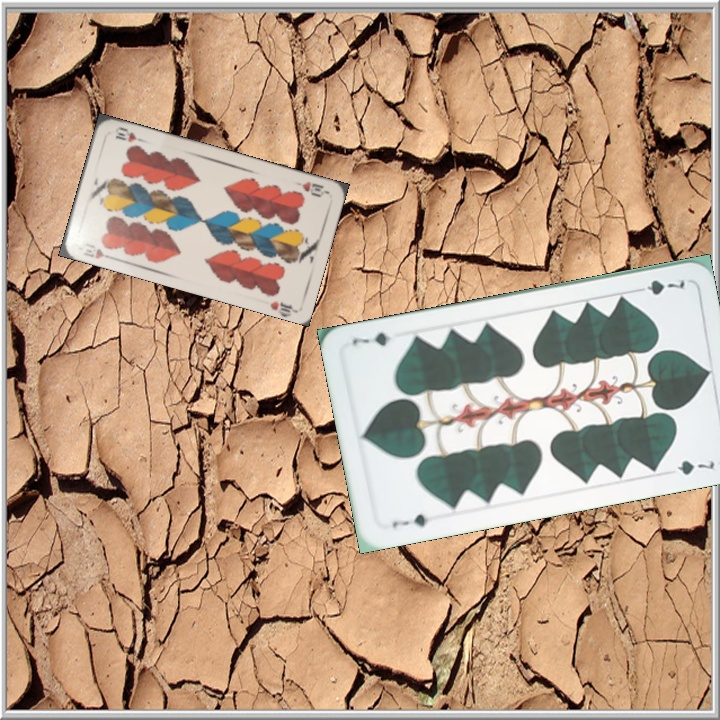G7: (629, 276, 688, 298), (388, 510, 439, 531)
H10: (290, 177, 330, 200), (78, 239, 115, 262)
